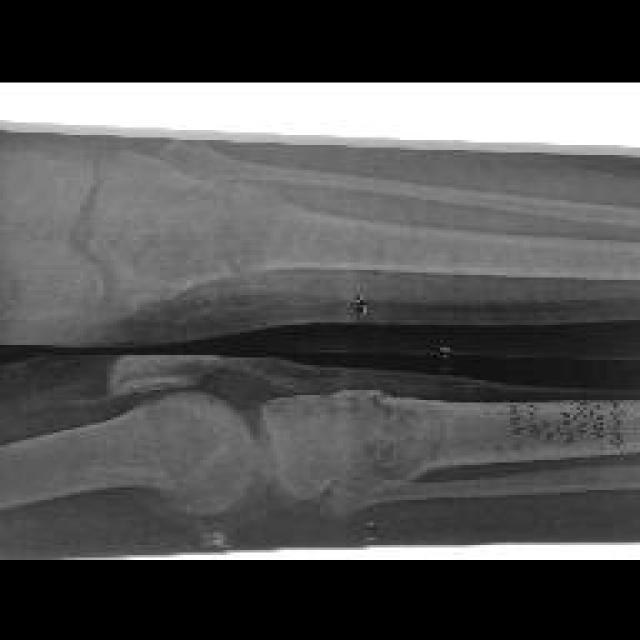bone-cancer: (147, 181, 313, 284), (315, 390, 435, 504)
